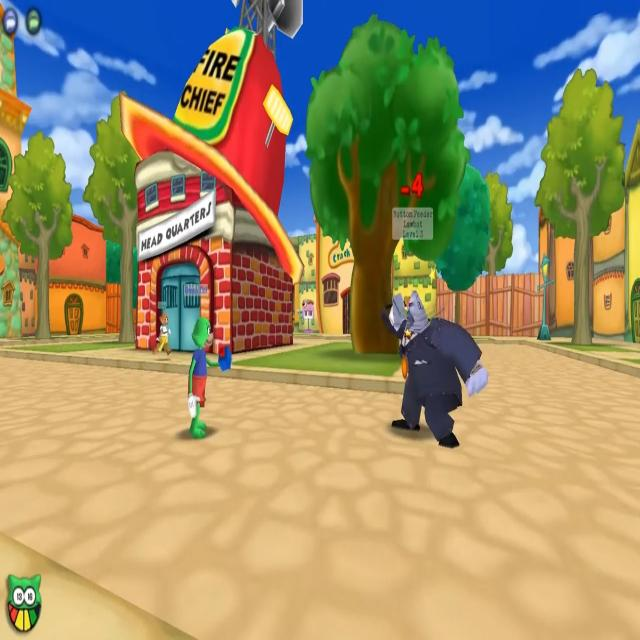bottomfeeder: (386, 200, 494, 446)
